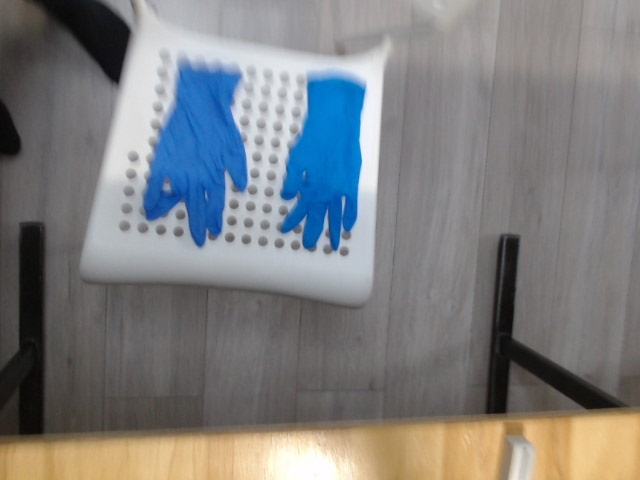medical_glove: (145, 69, 248, 242), (282, 76, 367, 245)
